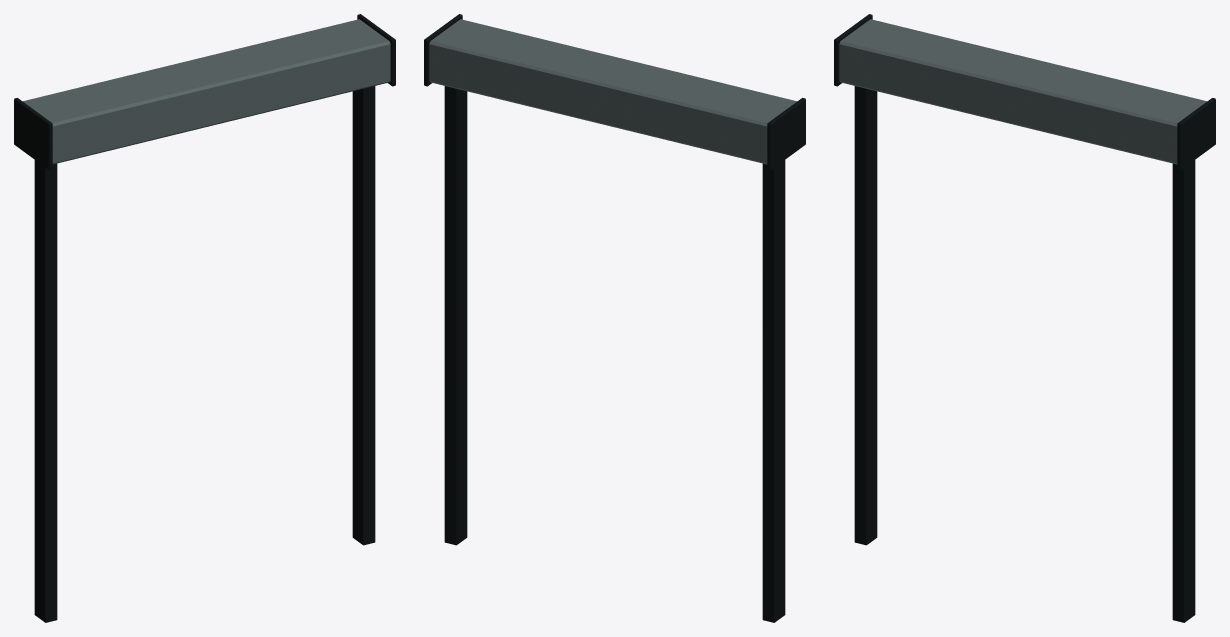
Rendered from shutter_tracks_2m.glb.
3 renders of one model, left to right at view 1: azimuth 30°, elevation 25°; view 2: azimuth 150°, elevation 25°; view 3: azimuth 330°, elevation 25°, orthographic.
Parts seen in each view (by area): view 1: shutter_tracks_2m; view 2: shutter_tracks_2m; view 3: shutter_tracks_2m.
Part boxes in pixels (left/top/right/bottom): shutter_tracks_2m: left=14, top=14, right=395, bottom=622; shutter_tracks_2m: left=424, top=14, right=805, bottom=622; shutter_tracks_2m: left=834, top=14, right=1215, bottom=622.
Bounding box in the file's own units: 2.11 × 2.95 × 0.37.
2 materials, 2 textured.
